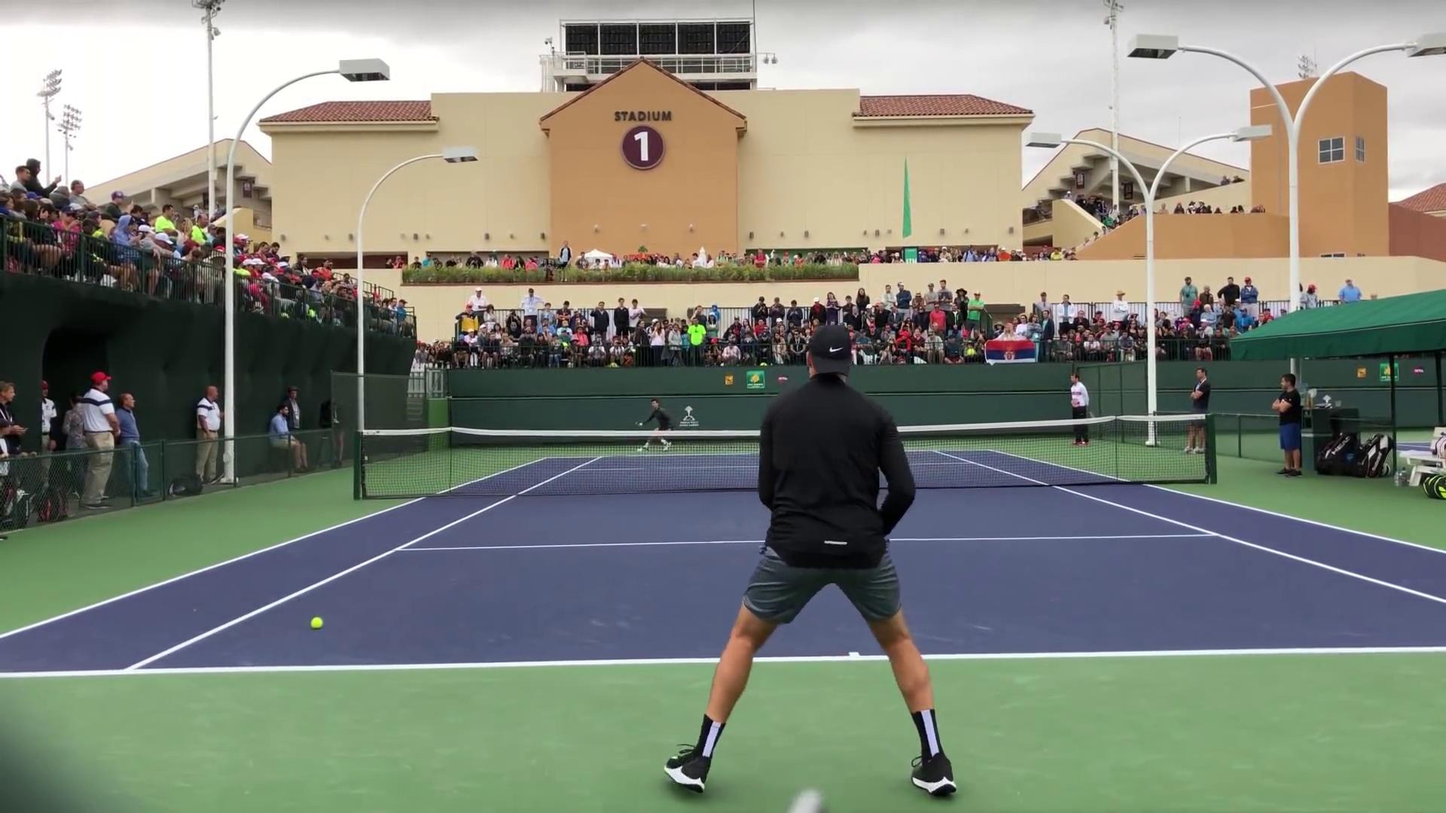ball: (310, 617, 324, 629), (631, 347, 637, 354)
